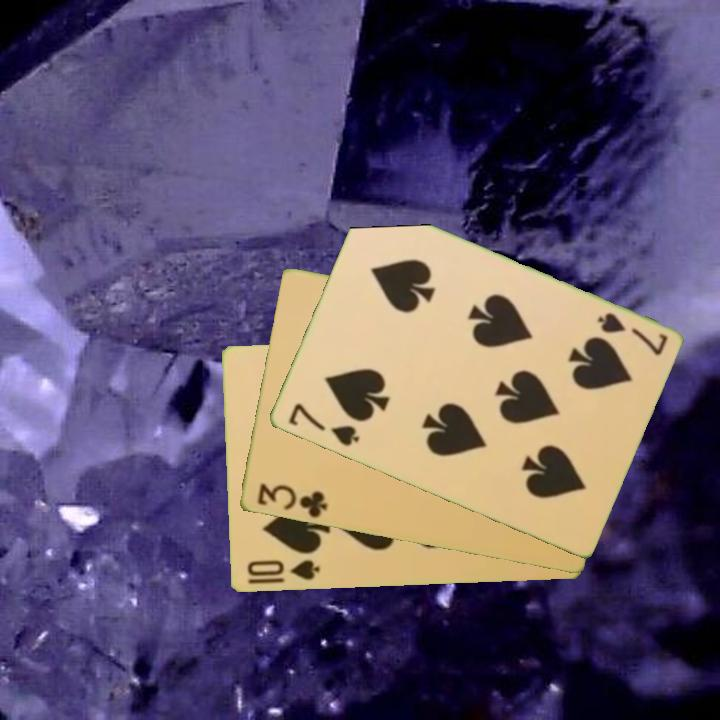10s: (243, 557, 322, 587)
3c: (253, 480, 330, 521)
7s: (284, 400, 362, 450), (593, 309, 671, 359)
